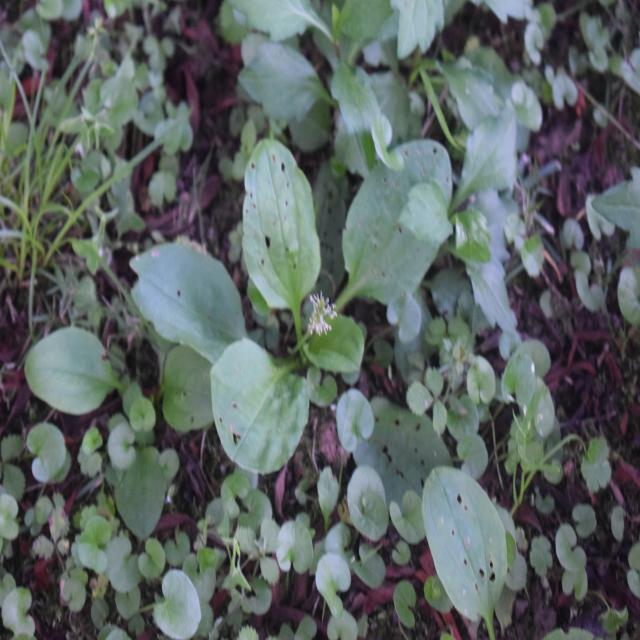plantain: (140, 115, 449, 440)
